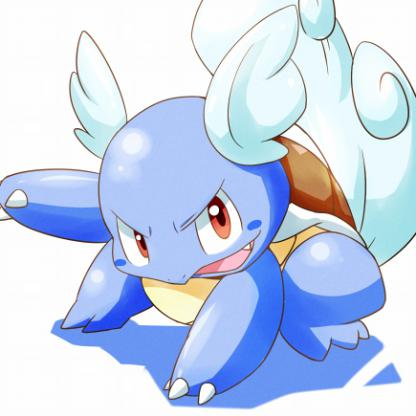Wartortle: (1, 6, 416, 413)
